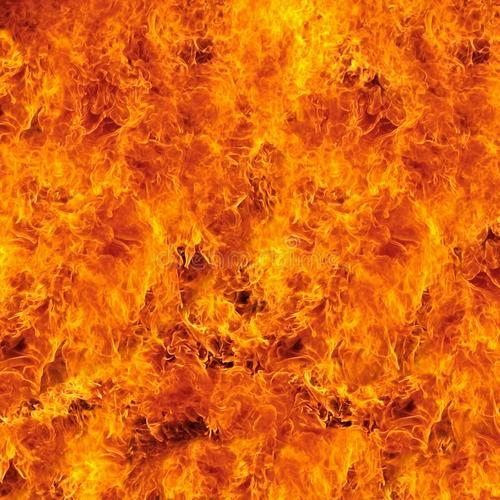fire: (7, 12, 494, 360)
